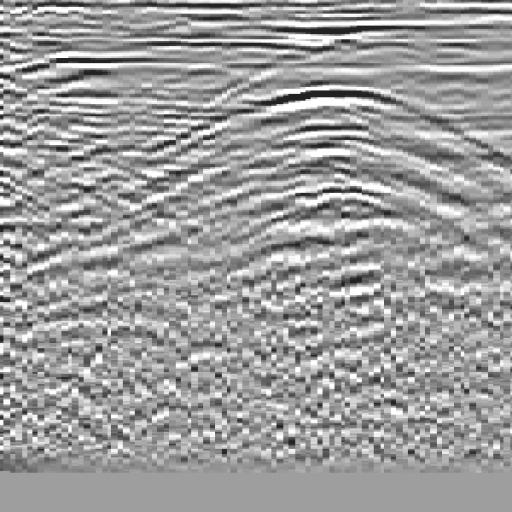non-metallic: (126, 66, 512, 301)
